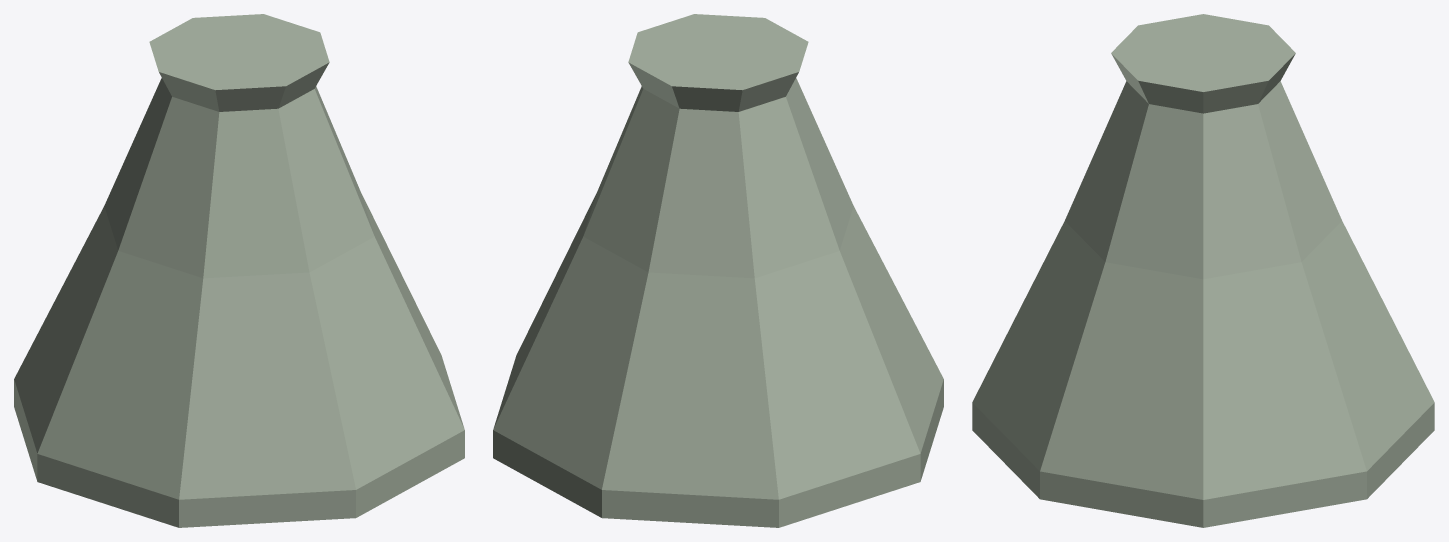
The model's file is SH_ThrusterNozzle_01.glb.
3 renders of one model, left to right at view 1: azimuth 30°, elevation 25°; view 2: azimuth 150°, elevation 25°; view 3: azimuth 270°, elevation 25°, orthographic.
Visible parts, largest first — view 1: SH_ThrusterNozzle_01; view 2: SH_ThrusterNozzle_01; view 3: SH_ThrusterNozzle_01.
Boxes of the visible parts, x1,y1,x2,y2 form: SH_ThrusterNozzle_01: (14, 14, 464, 527); SH_ThrusterNozzle_01: (493, 14, 943, 527); SH_ThrusterNozzle_01: (972, 14, 1434, 527).
Size of the model in its own units: 0.6 by 0.54 by 0.6.
Materials: 1 (1 with a texture image).
